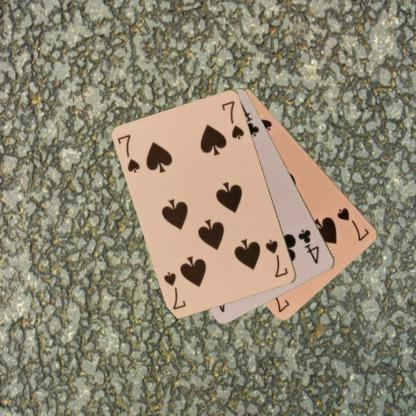4c: (295, 227, 321, 265)
7s: (334, 205, 371, 243), (115, 132, 142, 174), (263, 237, 289, 279)
